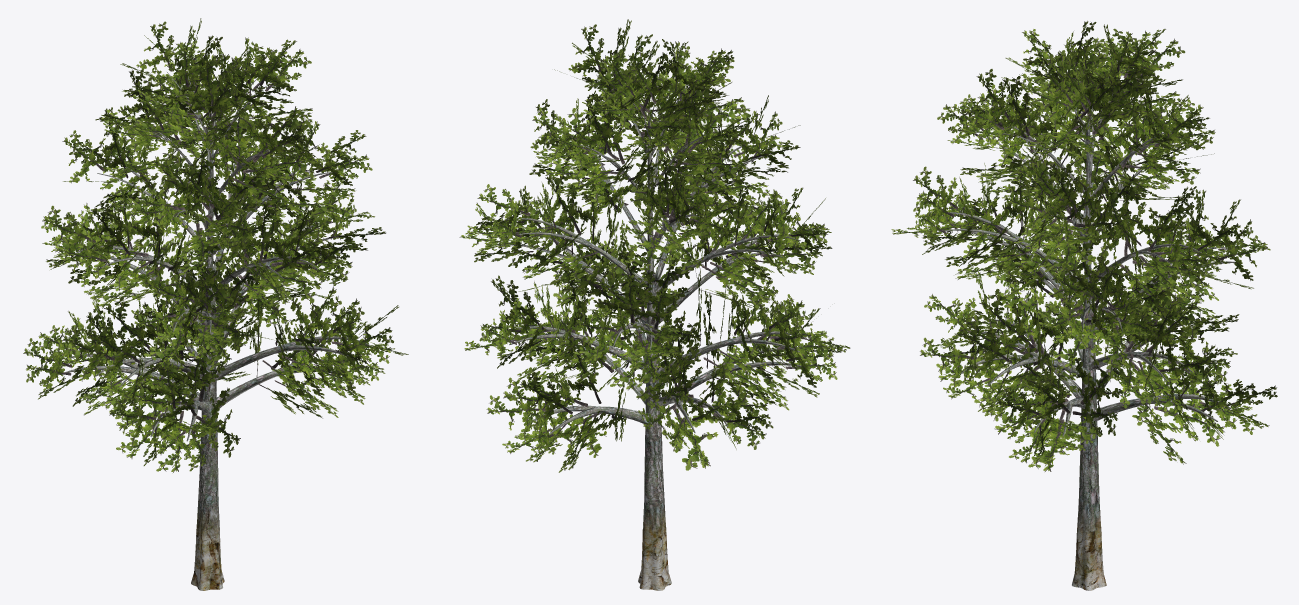
The picture shows the model from 3 angles, left to right: view 1: azimuth 30°, elevation 25°; view 2: azimuth 150°, elevation 25°; view 3: azimuth 270°, elevation 25°; orthographic projection.
Visible parts, largest first — view 1: LowPolyTree, LowPolyTree.002; view 2: LowPolyTree, LowPolyTree.002; view 3: LowPolyTree, LowPolyTree.002.
Part boxes in pixels (x1,y1,x2,y2): LowPolyTree: [23, 18, 408, 472]; LowPolyTree.002: [65, 69, 369, 590]; LowPolyTree: [459, 19, 850, 472]; LowPolyTree.002: [499, 74, 806, 590]; LowPolyTree: [891, 21, 1277, 471]; LowPolyTree.002: [933, 66, 1236, 590].
Bounding box in the file's own units: 980 × 1457 × 940.
2 materials, 2 textured.
